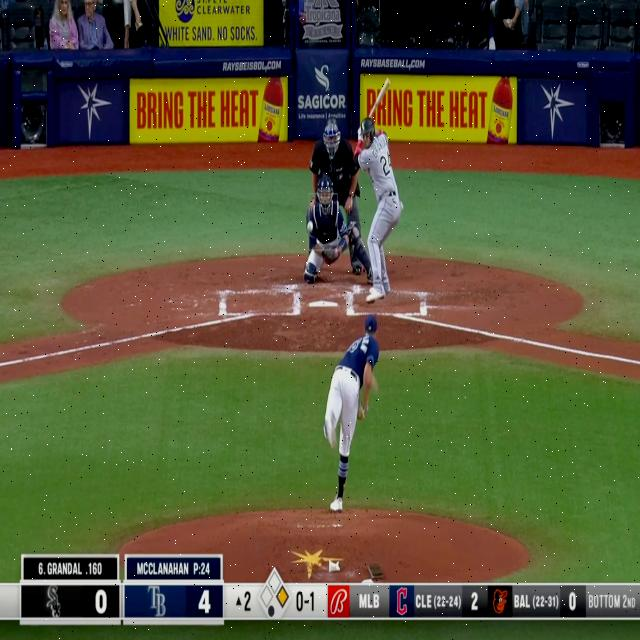baseball: (307, 220, 313, 232)
